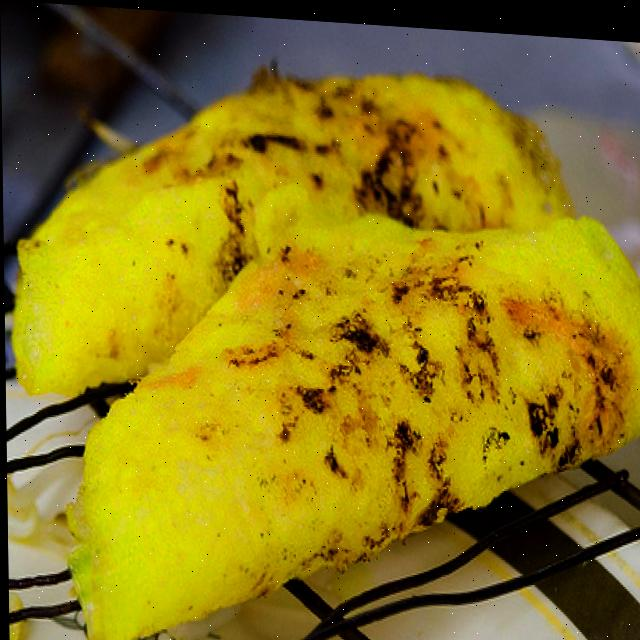鸡蛋料理: (13, 21, 640, 640)
